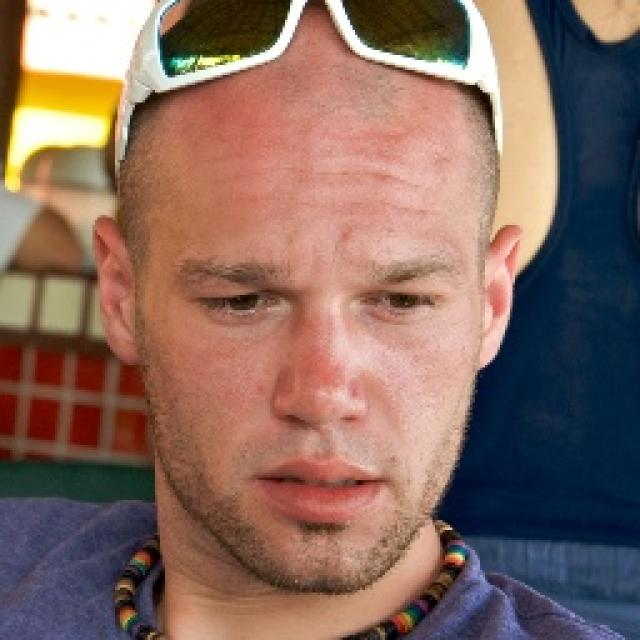earlobe: (90, 214, 142, 368), (477, 224, 525, 371)
